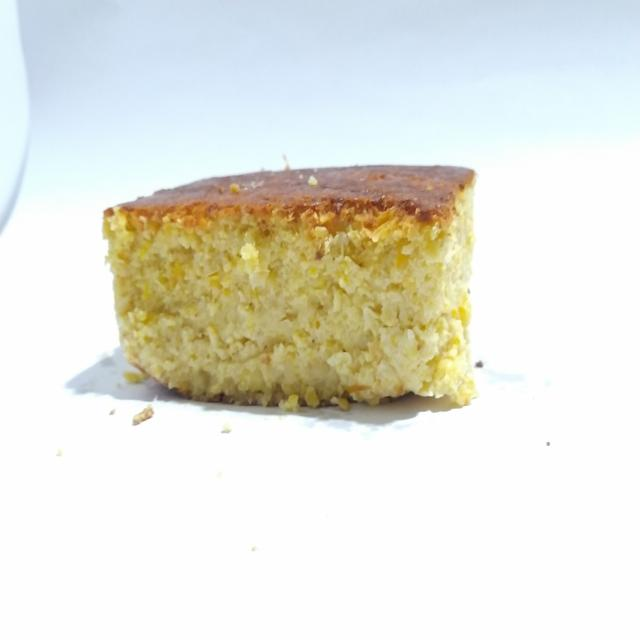Food: (90, 160, 498, 420)
